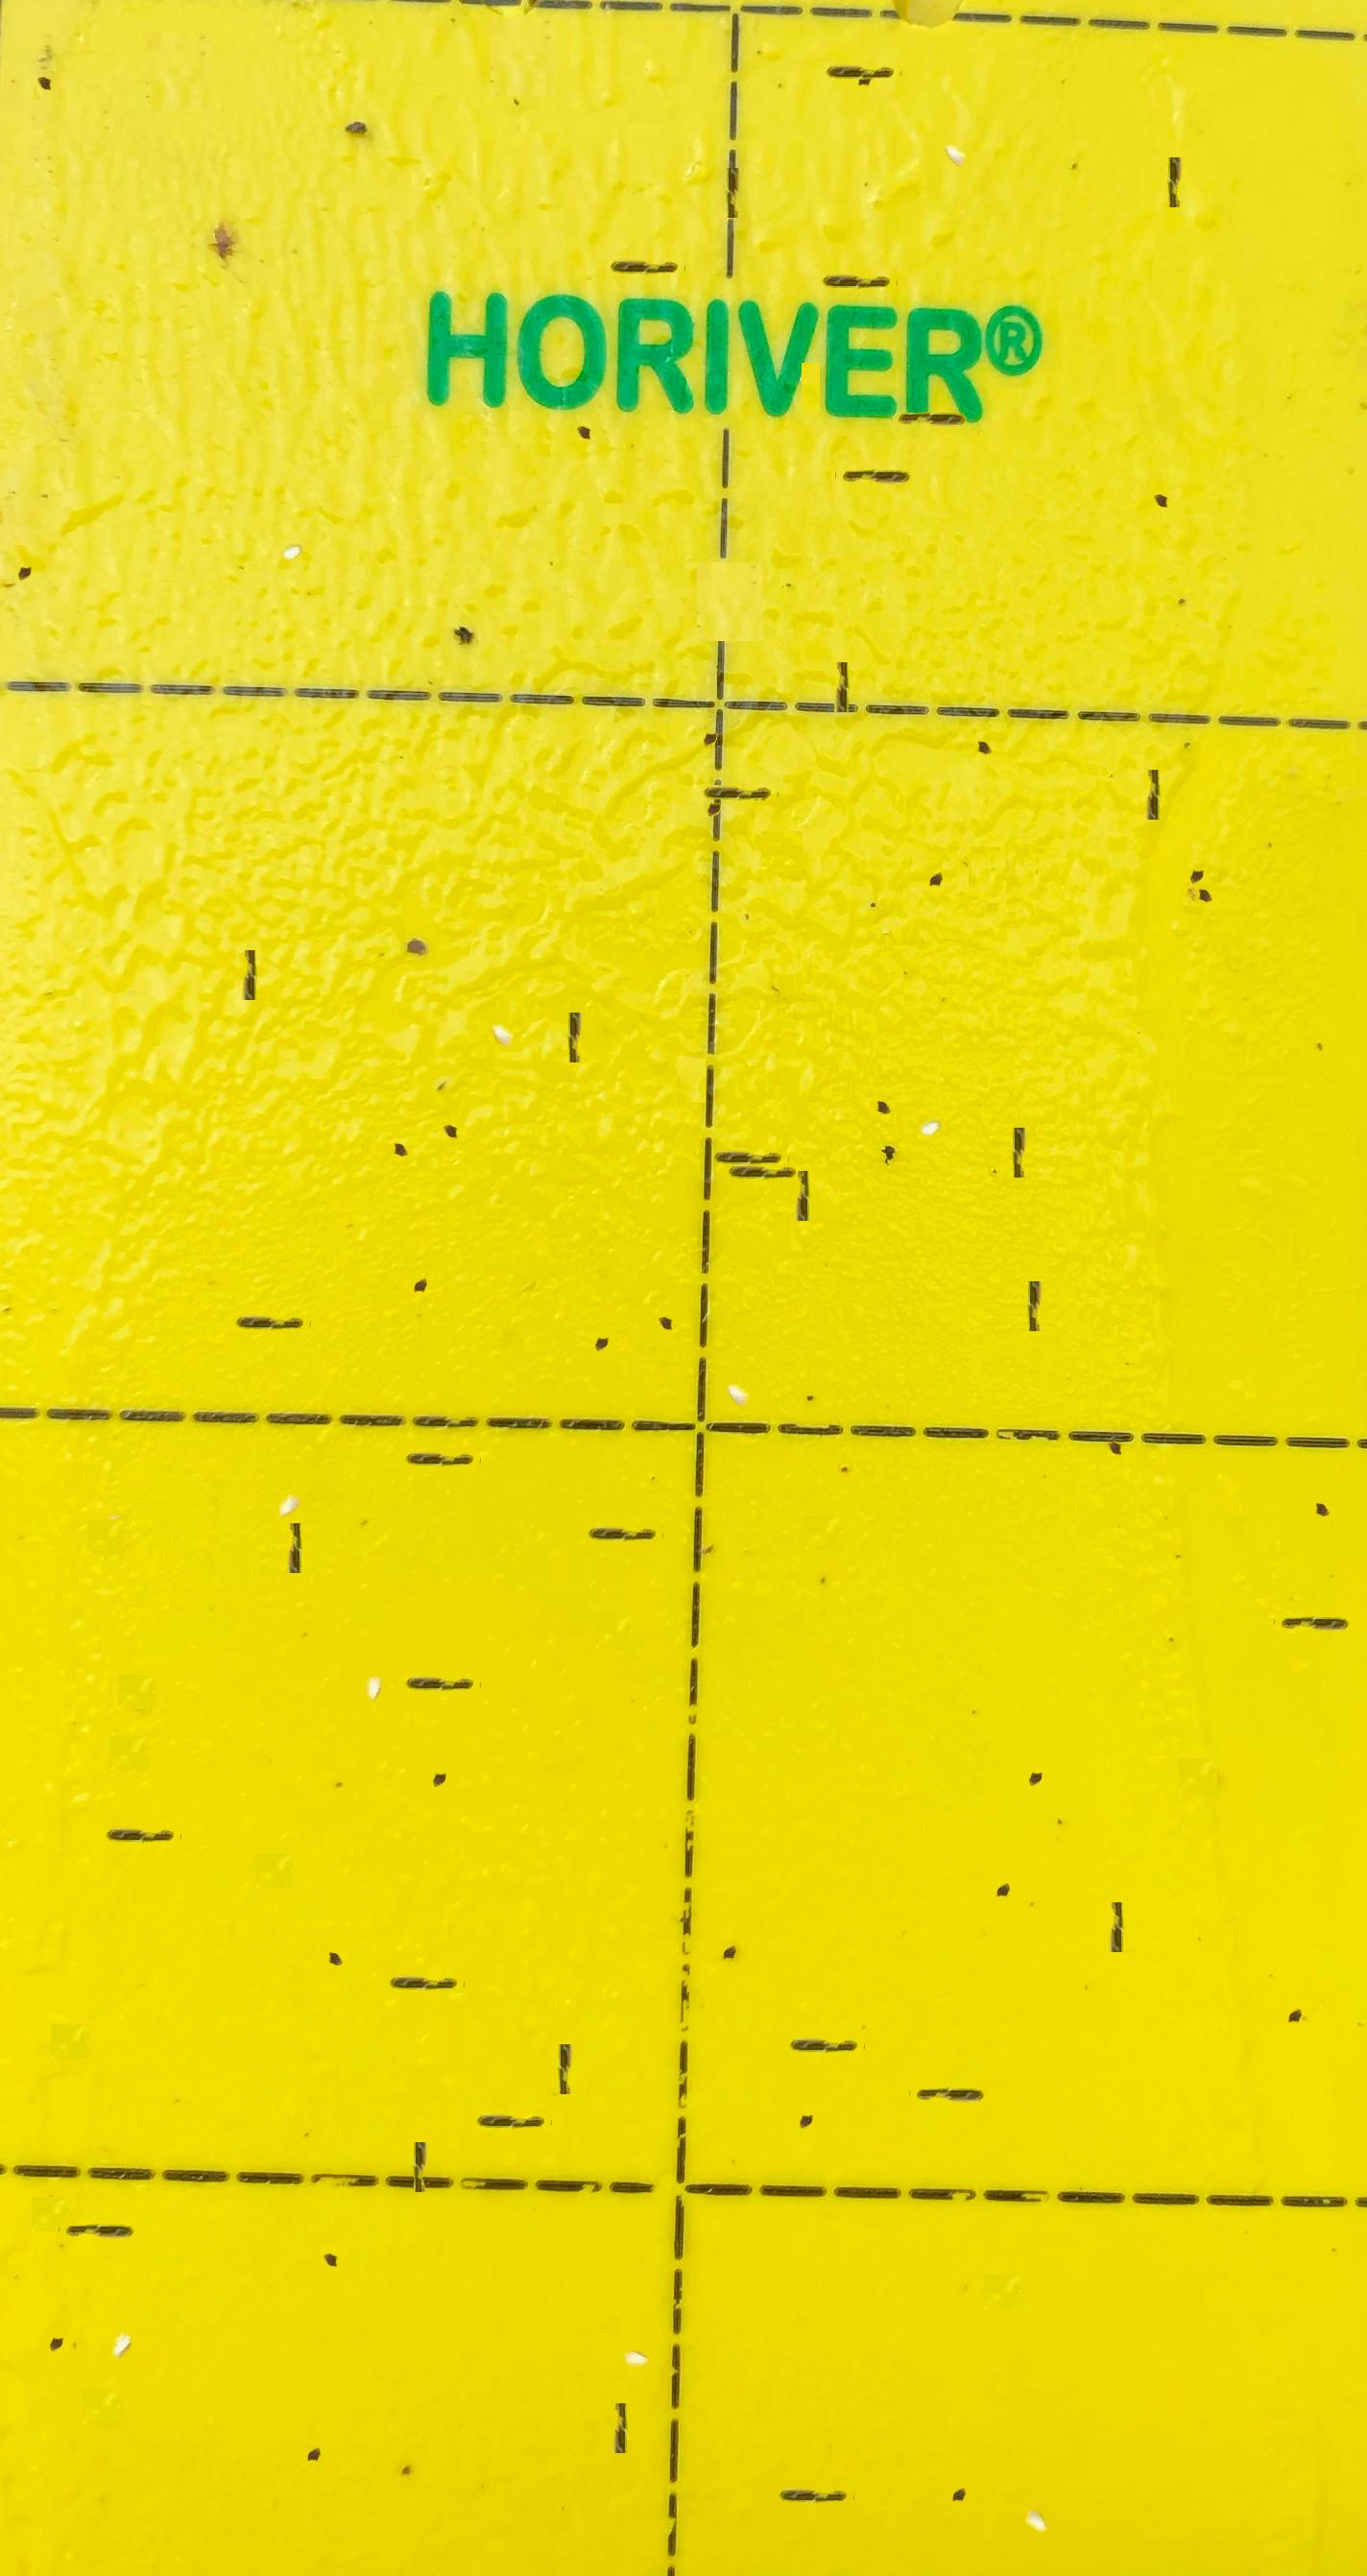white_fly: (269, 480, 312, 528), (908, 1056, 951, 1104), (99, 2274, 141, 2320), (482, 971, 525, 1014), (1014, 2455, 1057, 2498), (718, 1331, 758, 1375), (269, 1440, 310, 1482), (936, 92, 977, 135), (355, 1630, 397, 1668), (614, 2300, 656, 2337)
